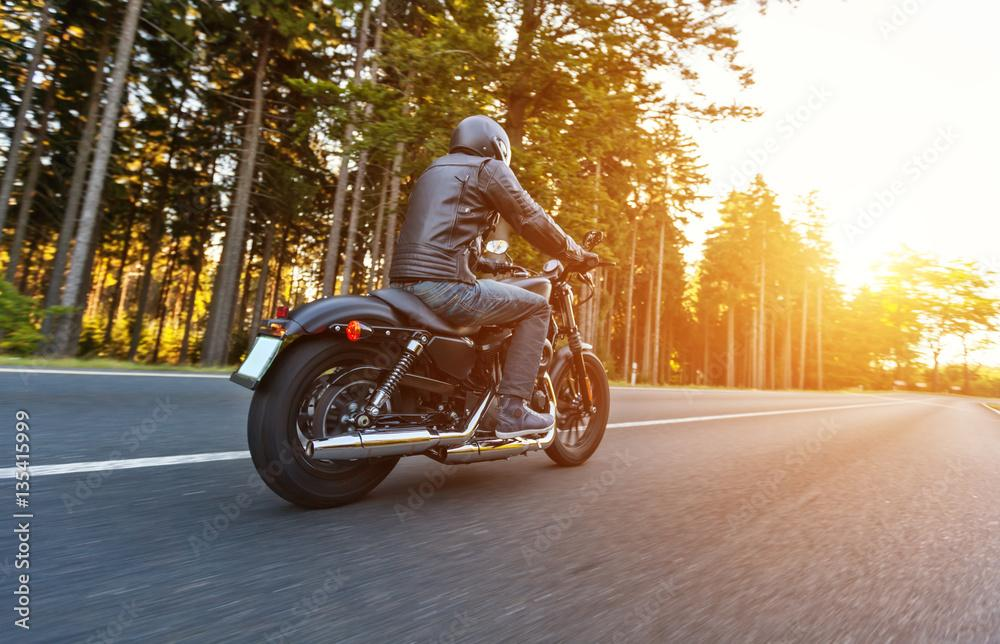helmet: (448, 113, 512, 178)
